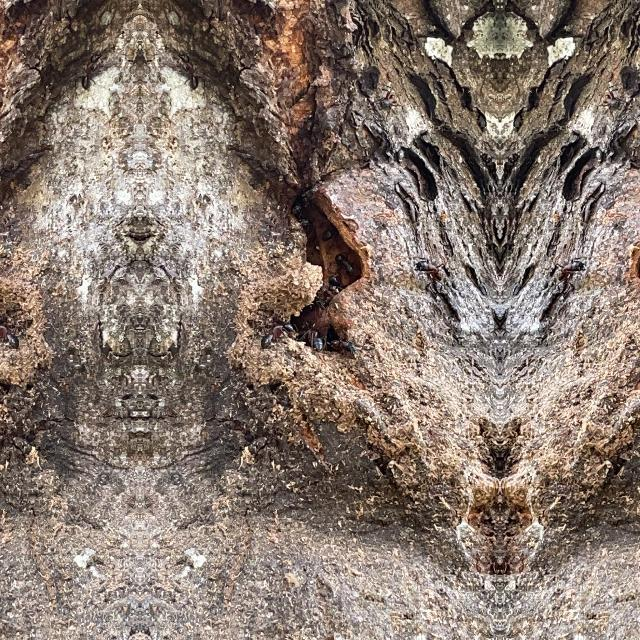Camponotus: (311, 271, 343, 315), (414, 252, 448, 286), (552, 252, 586, 286), (300, 312, 326, 356), (325, 327, 357, 357), (181, 49, 201, 92), (79, 49, 99, 92), (332, 248, 356, 280), (378, 86, 404, 114), (596, 86, 622, 114), (258, 322, 282, 352), (0, 322, 20, 352), (491, 307, 499, 337), (501, 307, 509, 337)
